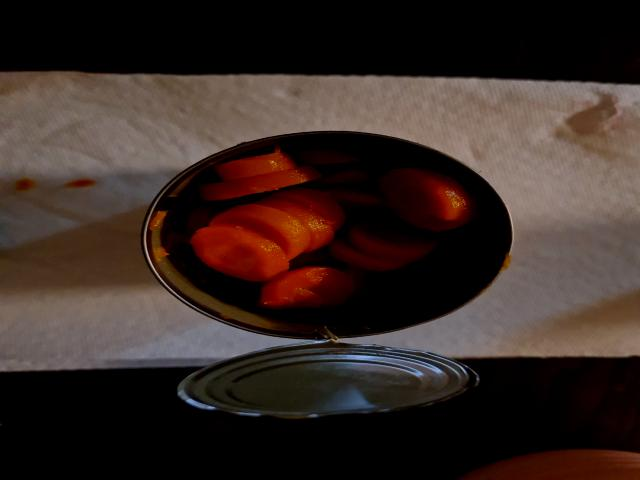kichen waste: (191, 148, 470, 305)
